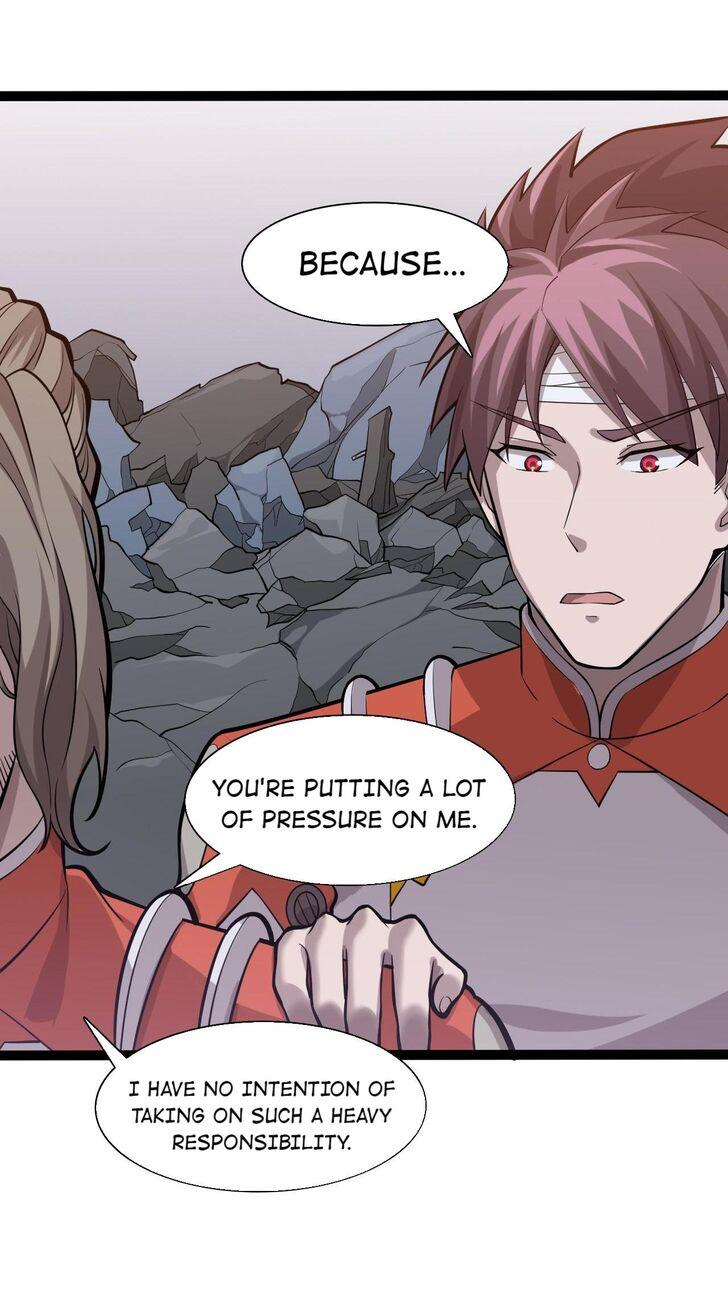Bubble: (91, 1016, 432, 1196), (179, 712, 521, 889), (239, 198, 514, 332)
